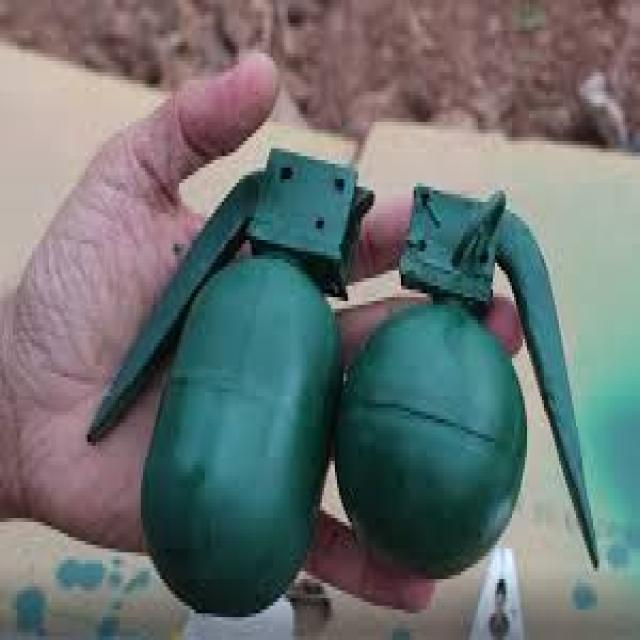grenade: (84, 140, 380, 624), (329, 177, 609, 590)
